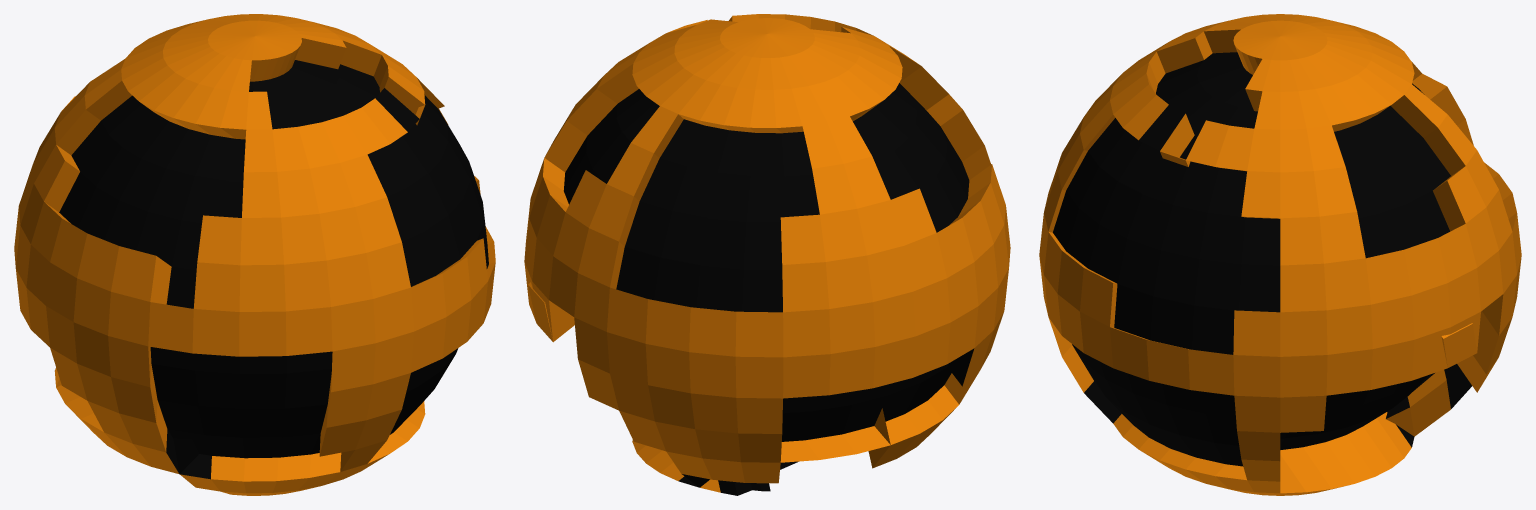
The model's file is astriod.fbx.
3 renders of one model, left to right at view 1: azimuth 30°, elevation 25°; view 2: azimuth 150°, elevation 25°; view 3: azimuth 270°, elevation 25°, orthographic.
Parts seen in each view (by area): view 1: Sphere; view 2: Sphere; view 3: Sphere.
Boxes of the visible parts, bbox=[...] form: Sphere: bbox=[14, 14, 495, 495]; Sphere: bbox=[524, 14, 1010, 495]; Sphere: bbox=[1039, 14, 1521, 495].
Bounding box in the file's own units: 200 × 200 × 200.
